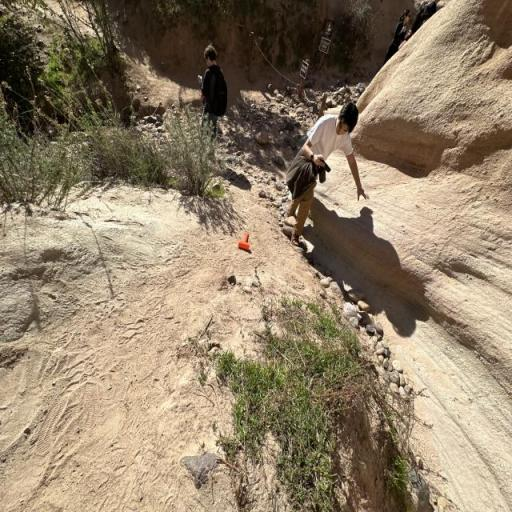mallet: (238, 232, 250, 251)
